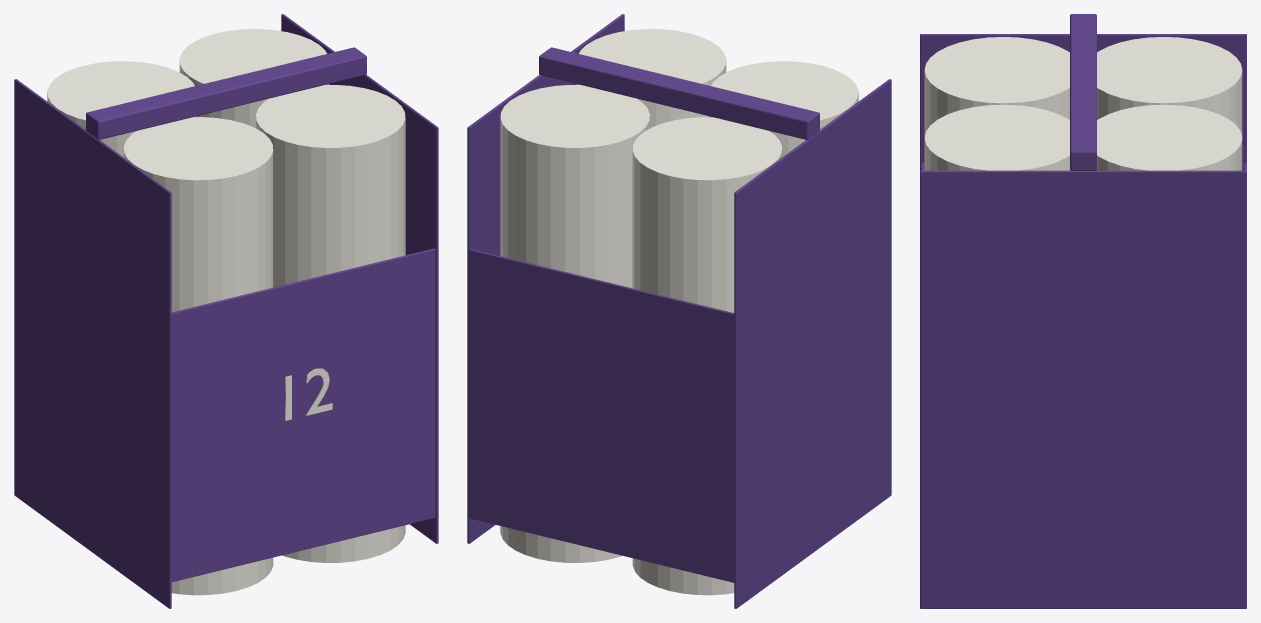
The model's file is toilet-paper-pack-v1.glb.
3 views of the same model, side by side, from view 1: azimuth 30°, elevation 25°; view 2: azimuth 150°, elevation 25°; view 3: azimuth 270°, elevation 25° (orthographic). The views are drawn at different scales.
Parts seen in each view (by area): view 1: front-label, left-wrap, rolls, top-seal, right-wrap, quantity-mark; view 2: back-label, left-wrap, rolls, top-seal, right-wrap; view 3: right-wrap, rolls, top-seal, left-wrap, back-label.
Part boxes in pixels (x1,y1,x2,y2): front-label: (167, 248, 435, 581); left-wrap: (14, 79, 171, 608); rolls: (47, 29, 405, 595); top-seal: (86, 47, 366, 139); right-wrap: (281, 14, 438, 543); quantity-mark: (285, 368, 332, 420); back-label: (467, 249, 737, 582); left-wrap: (734, 79, 891, 608); rolls: (500, 29, 858, 595); top-seal: (539, 47, 819, 139); right-wrap: (467, 14, 624, 543); right-wrap: (920, 170, 1246, 608); rolls: (924, 37, 1242, 170); top-seal: (1070, 14, 1096, 170); left-wrap: (920, 34, 1246, 170); back-label: (1244, 162, 1246, 581).
Size of the model in its own units: 0.22 by 0.34 by 0.22.
